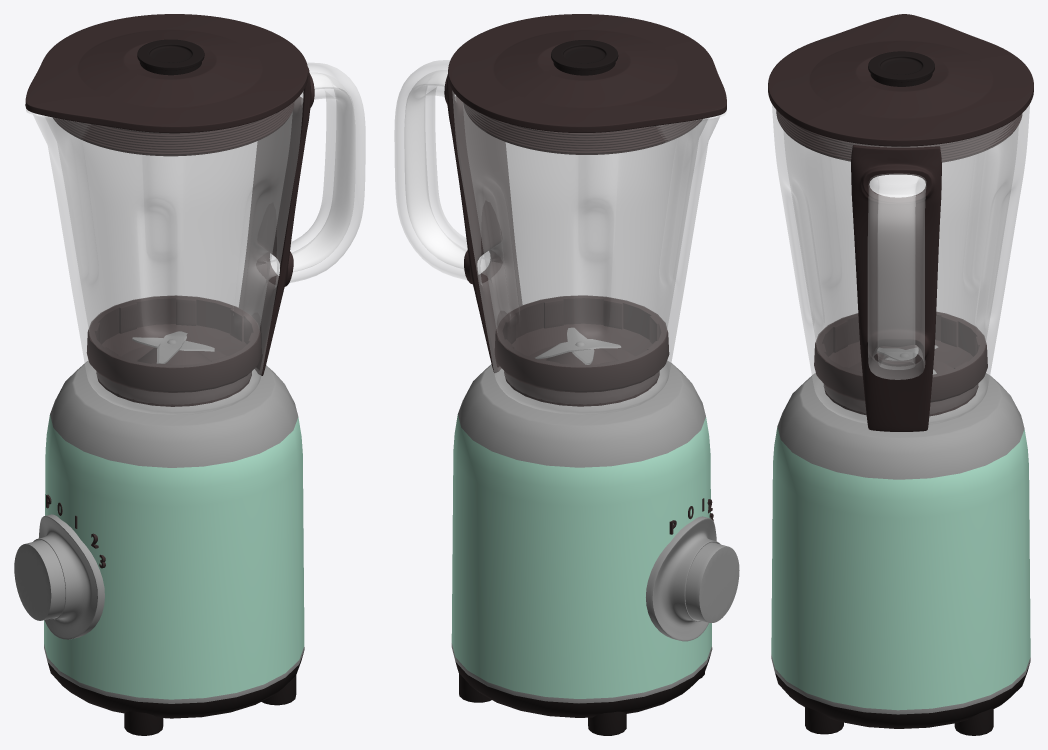
The model's file is modern_blender.glb.
3 views of the same model, side by side, from view 1: azimuth 30°, elevation 25°; view 2: azimuth 150°, elevation 25°; view 3: azimuth 270°, elevation 25° (orthographic).
Parts seen in each view (by area): view 1: blender1objcleanermaterialmergergles; view 2: blender1objcleanermaterialmergergles; view 3: blender1objcleanermaterialmergergles.
Boxes of the visible parts, box(x1,y1,x2,y2) form: blender1objcleanermaterialmergergles: box(14, 14, 365, 735); blender1objcleanermaterialmergergles: box(394, 14, 739, 735); blender1objcleanermaterialmergergles: box(768, 14, 1033, 735).
Bounding box in the file's own units: 1.54 × 2.84 × 1.09.
